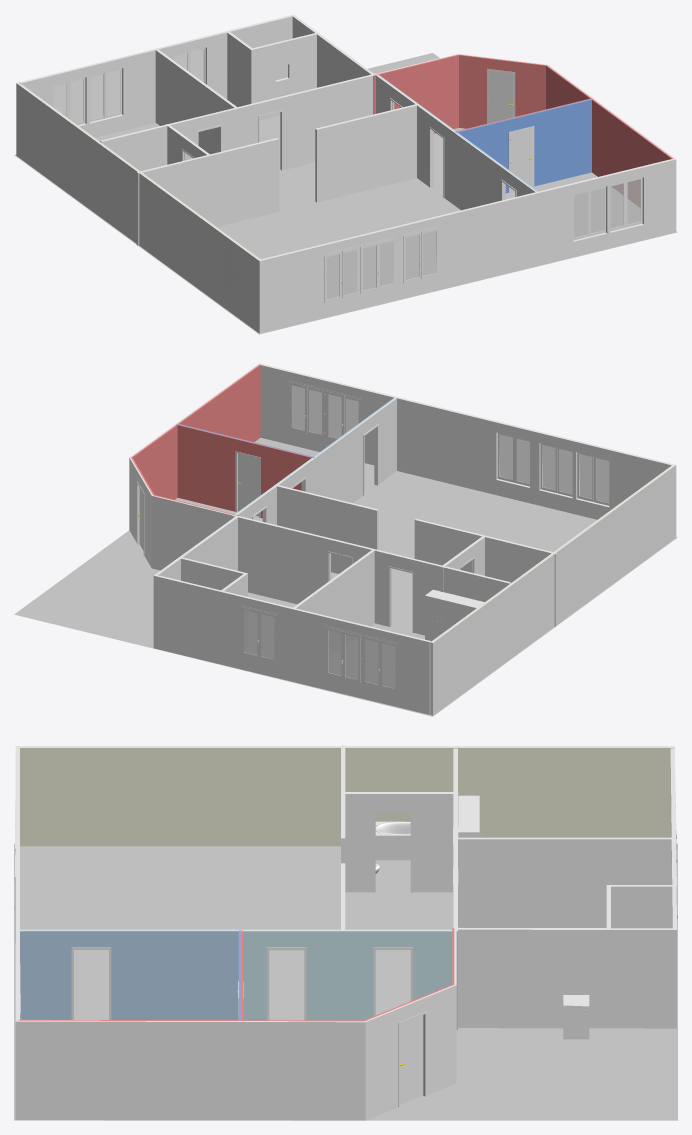
File: home94.dae
3 views of the same model, one above another, from view 1: azimuth 30°, elevation 25°; view 2: azimuth 150°, elevation 25°; view 3: azimuth 270°, elevation 25° (orthographic). The views are drawn at different scales.
Visible parts, largest first — view 1: wall_2_11, ground_1, wall_1_5, wall_7_40, wall_10_58, wall_14_82, wall_5_28, wall_9_53, wall_12_70, wall_13_76, wall_6_35, wall_16_95 (+26 smaller); view 2: ground_1, wall_1_5, wall_2_10, wall_5_29, wall_7_41, wall_9_52, wall_12_70, wall_17_101, wall_14_83, wall_10_59, wall_6_35, wall_3_17 (+25 smaller); view 3: ground_1, wall_1_4, wall_12_71, wall_4_23, wall_17_100, wall_6_34, wall_8_46, wall_11_65, wall_13_77, wall_15_88, Porte_171, Tour_236 (+8 smaller).
Part boxes in pixels (box(x1,y1,x2,y2)): wall_2_11: box(259, 159, 676, 333); ground_1: box(14, 53, 677, 334); wall_1_5: box(16, 83, 259, 333); wall_7_40: box(101, 76, 372, 171); wall_10_58: box(137, 139, 279, 245); wall_14_82: box(316, 105, 416, 202); wall_5_28: box(20, 16, 292, 137); wall_9_53: box(458, 100, 591, 193); wall_12_70: box(546, 66, 671, 207); wall_13_76: box(459, 55, 545, 128); wall_6_35: box(155, 50, 234, 154); wall_16_95: box(251, 34, 316, 120); ground_1: box(14, 437, 677, 716); wall_1_5: box(431, 465, 676, 715); wall_2_10: box(260, 365, 671, 519); wall_5_29: box(153, 576, 430, 714); wall_7_41: box(232, 516, 509, 635); wall_9_52: box(177, 425, 311, 518); wall_12_70: box(133, 365, 260, 499); wall_17_101: box(315, 398, 396, 502); wall_14_83: box(277, 486, 377, 573); wall_10_59: box(414, 520, 556, 626); wall_6_35: box(296, 551, 374, 656); wall_3_17: box(152, 496, 232, 570); ground_1: box(14, 843, 677, 1120); wall_1_4: box(20, 748, 674, 846); wall_12_71: box(15, 1021, 365, 1120); wall_4_23: box(458, 929, 676, 1028); wall_17_100: box(20, 931, 238, 1019); wall_6_34: box(458, 839, 671, 928); wall_8_46: box(243, 931, 457, 1029); wall_11_65: box(345, 794, 458, 892); wall_13_77: box(365, 985, 456, 1120); wall_15_88: box(611, 886, 672, 928); Porte_171: box(400, 1015, 423, 1104); Tour_236: box(375, 821, 410, 860).
Bounding box in the file's own units: 27.94 × 28.33 × 4.63.
